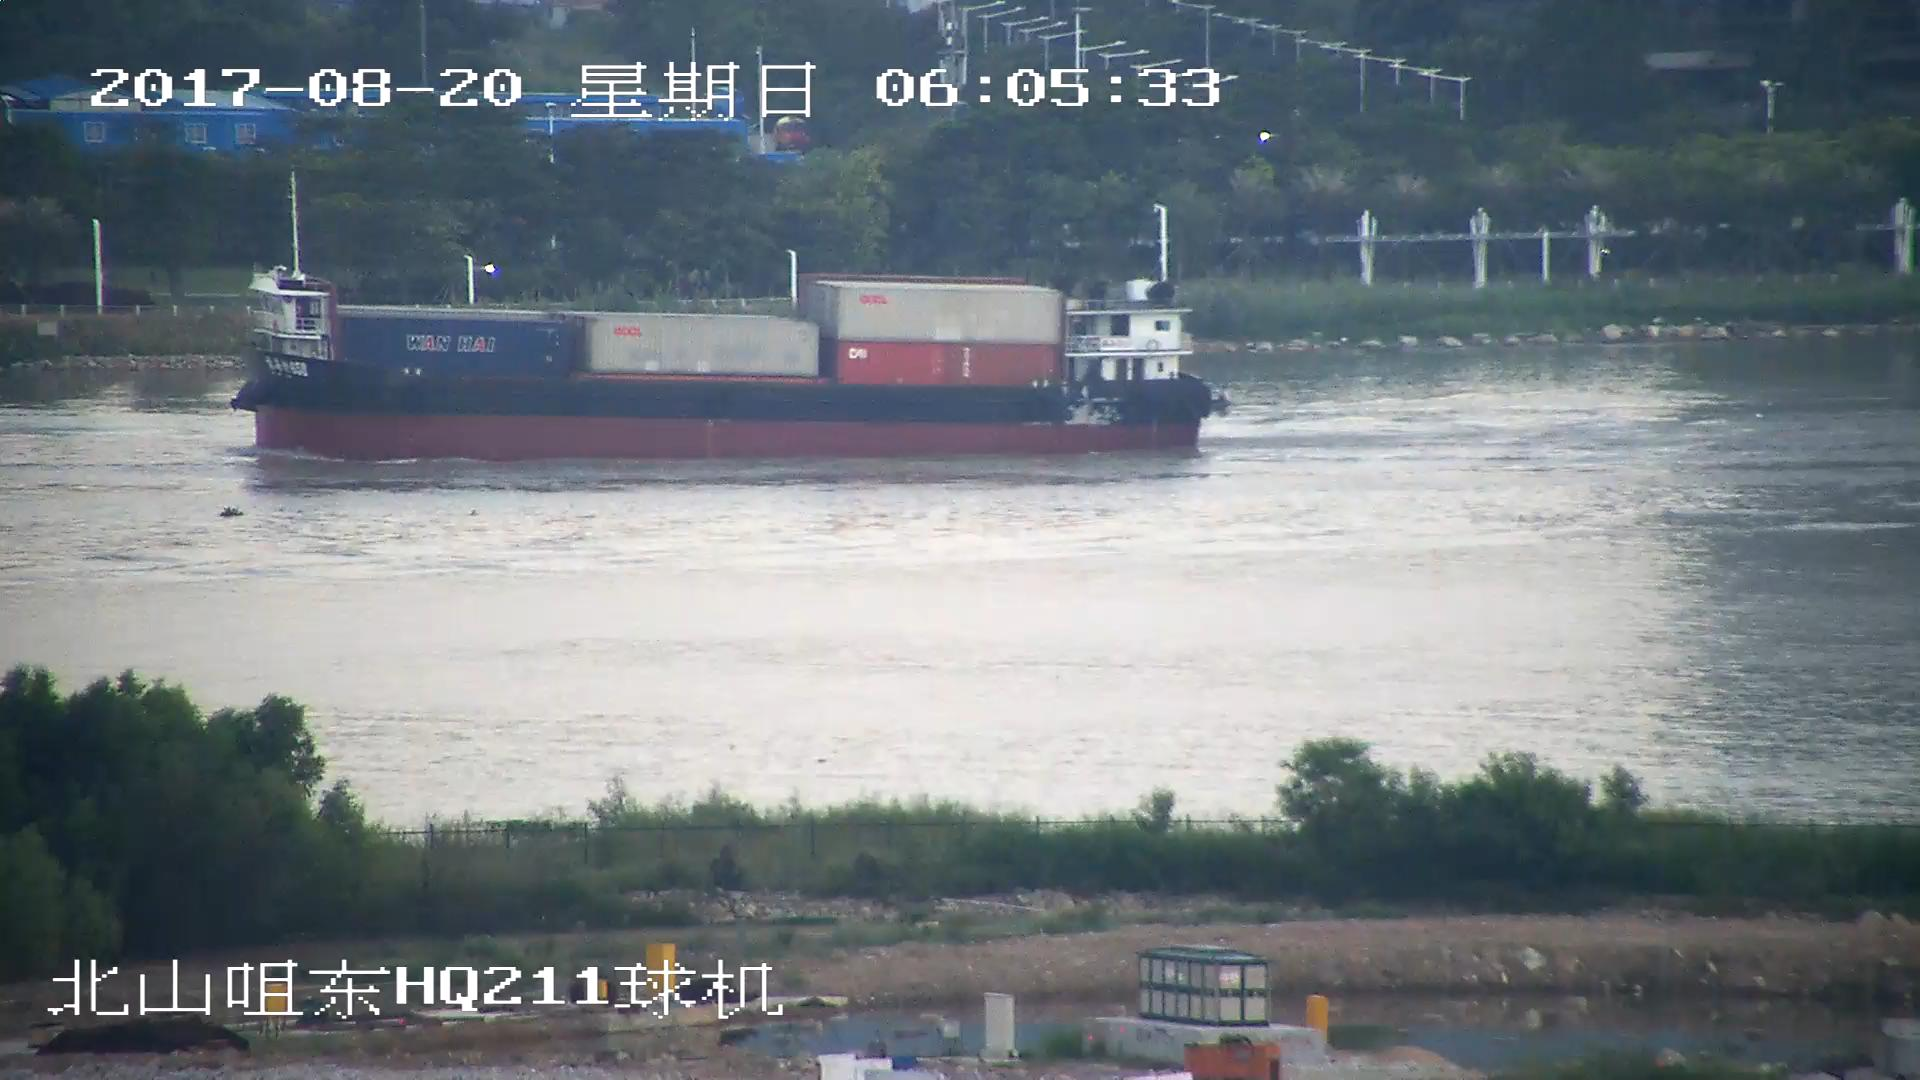container ship: (224, 182, 1218, 461)
